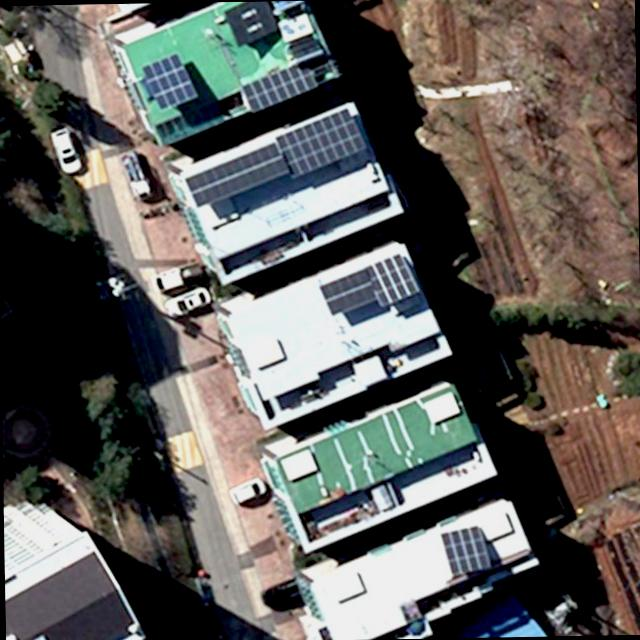solar: (270, 106, 372, 178), (182, 148, 291, 206), (236, 58, 326, 116), (137, 51, 200, 113), (362, 251, 425, 309), (316, 266, 379, 319), (436, 524, 494, 576), (218, 1, 278, 46)
